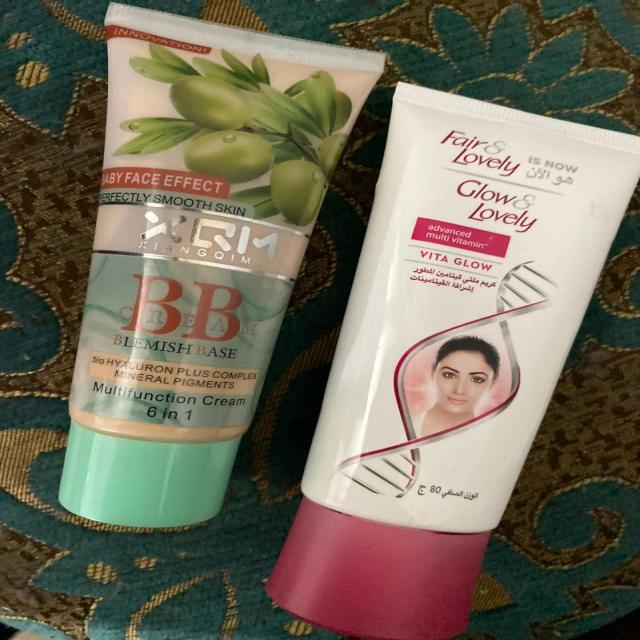bb cream: (34, 16, 390, 542)
lotion: (273, 72, 640, 640)
